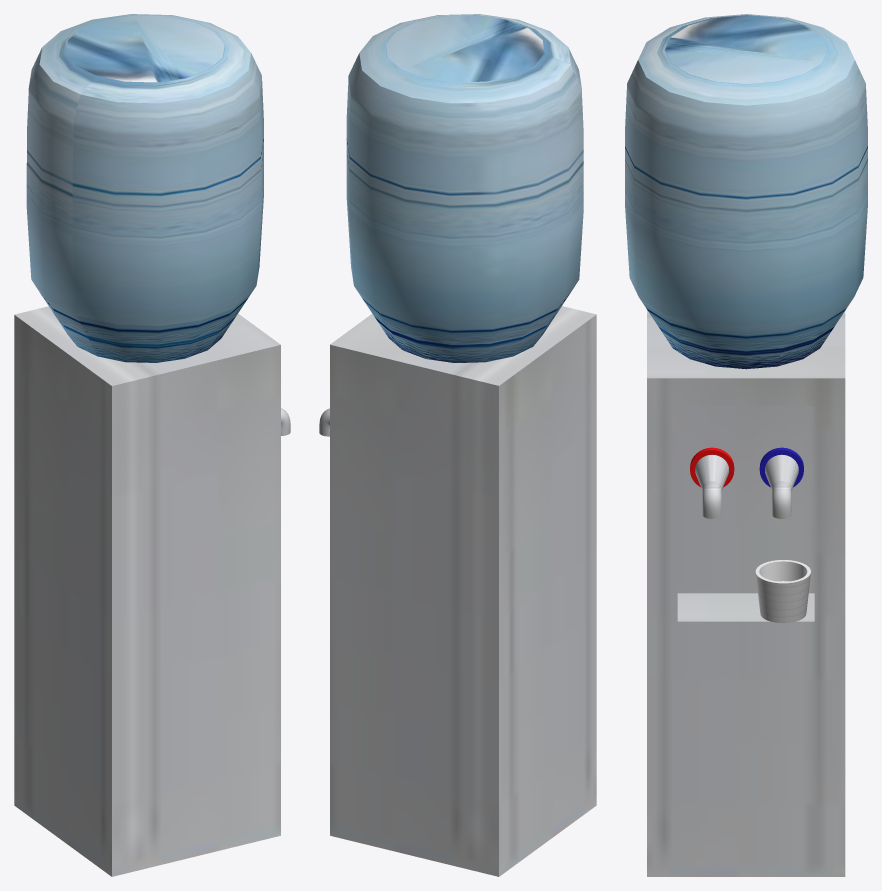
File: bebedero_final.fbx
The picture shows the model from 3 angles, left to right: view 1: azimuth 30°, elevation 25°; view 2: azimuth 150°, elevation 25°; view 3: azimuth 270°, elevation 25°; orthographic projection.
Parts seen in each view (by area): view 1: Estructura, Bidon; view 2: Estructura, Bidon; view 3: Estructura, Bidon, Vaso, Llave frio, Llave caliente.
Boxes of the visible parts, x1,y1,x2,y2 form: Estructura: (14,306,280,876); Bidon: (26,14,263,362); Estructura: (330,306,596,876); Bidon: (346,14,583,362); Estructura: (647,310,845,876); Bidon: (625,14,867,369); Vaso: (755,560,810,623); Llave frio: (759,447,803,518); Llave caliente: (690,447,734,518).
Bounding box in the file's own units: 273 × 873 × 245.
5 materials, 5 textured.
